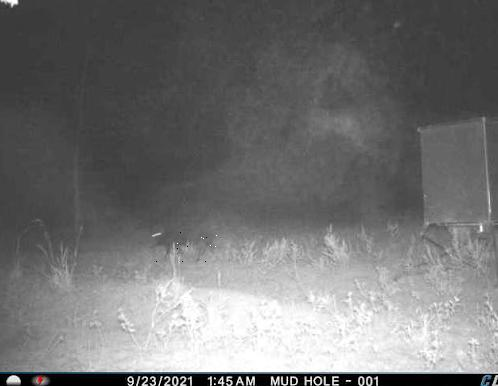Hog: (150, 222, 218, 262)
